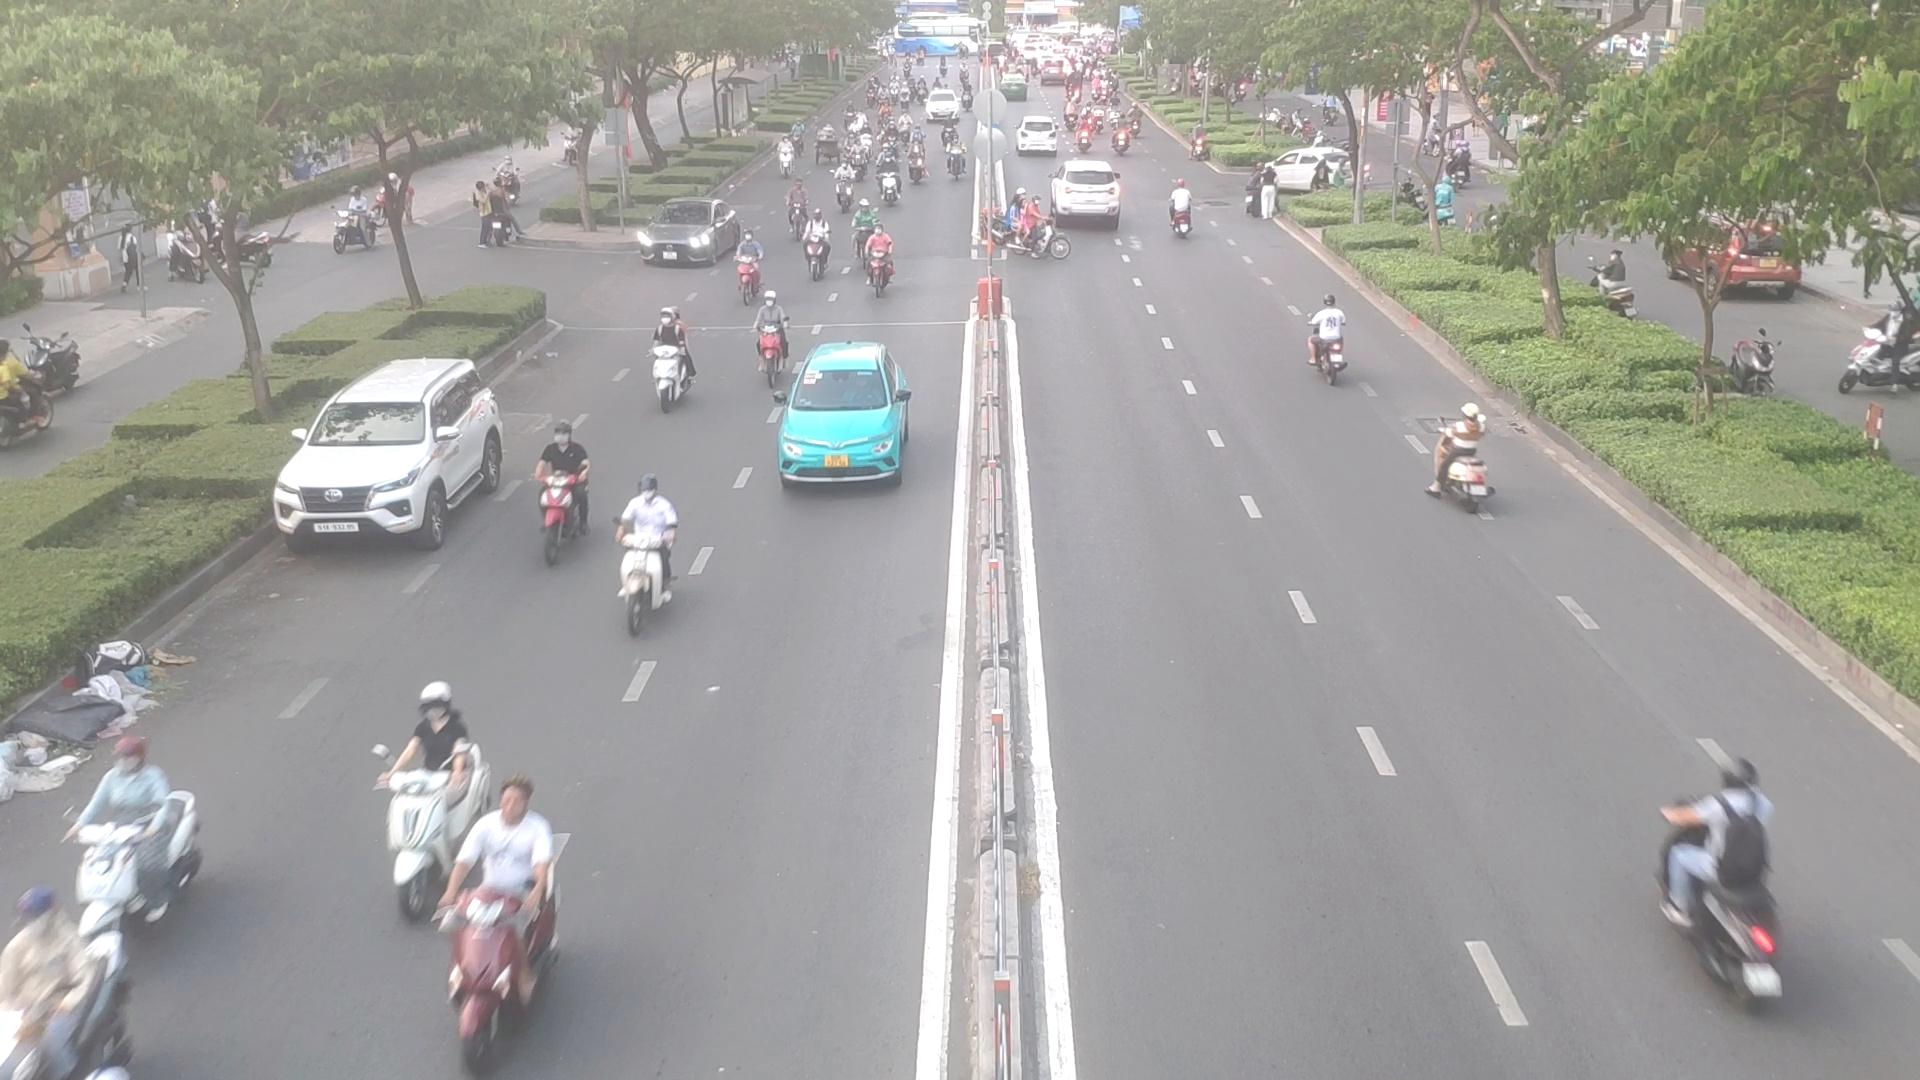car: (276, 361, 512, 553), (773, 342, 911, 491), (633, 202, 742, 268), (1058, 160, 1127, 219), (1273, 146, 1356, 189)
motorbike: (1658, 761, 1817, 1006), (447, 773, 553, 1014), (80, 752, 196, 913), (396, 702, 475, 898), (613, 477, 691, 634), (539, 413, 597, 578), (1437, 392, 1501, 506), (1303, 293, 1357, 385), (1006, 193, 1076, 255), (657, 301, 691, 405), (746, 287, 787, 371), (866, 218, 895, 298), (796, 211, 835, 262), (785, 179, 814, 233), (736, 225, 761, 285), (848, 198, 874, 248), (847, 138, 873, 183), (773, 135, 799, 178), (833, 165, 858, 208), (903, 137, 926, 183), (943, 136, 967, 179), (881, 157, 899, 208)
